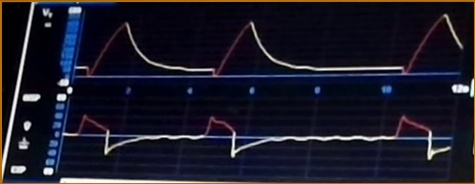Flow: (69, 109, 451, 170)
Leakage Volume: (81, 12, 466, 82)
